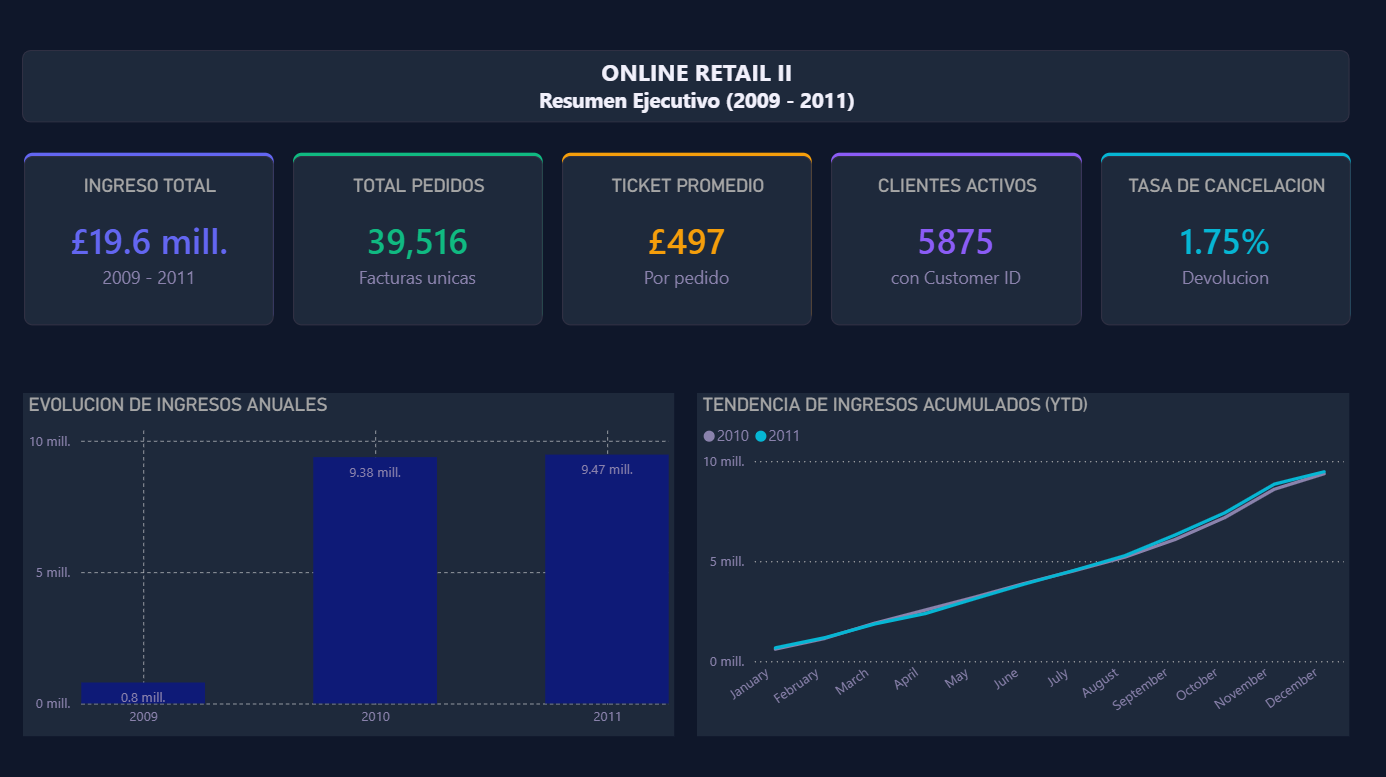

What the dashboard file says about the page in this screenshot:
{"tool":"powerbi","page":{"name":"Página 1","canvas":[1280,720],"ordinal":0},"visuals":[{"type":"cardVisual","title":"INGRESO TOTAL","fields":{"Data":["Sum(Consulta1.ingreso_total)"]},"box":[34.3,144.6,227.1,154.3],"z":0},{"type":"shape","box":[33,47.9,1207,66],"z":1000},{"type":"textbox","box":[42.9,48.1,1207.1,65.7],"z":2000},{"type":"cardVisual","title":"TOTAL PEDIDOS","fields":{"Data":["Sum(Consulta1.total_pedidos)"]},"box":[279.1,144.4,226.7,154.4],"z":3000},{"type":"cardVisual","title":"TICKET PROMEDIO","fields":{"Data":["Sum(Consulta1.ticket_promedio)"]},"box":[523.5,144.4,226.7,154.4],"z":4000},{"type":"cardVisual","title":"CLIENTES ACTIVOS","fields":{"Data":["Avg(Consulta1.clientes_activos)"]},"box":[767.9,144.5,227.8,154.4],"z":5000},{"type":"cardVisual","title":"TASA DE CANCELACION","fields":{"Data":["Avg(Consulta1.tasa_cancelacion_pct)"]},"box":[1013.3,144.5,226.7,154.4],"z":6000},{"type":"clusteredColumnChart","title":"EVOLUCION DE INGRESOS ANUALES","fields":{"Category":["Consulta2.anio"],"Y":["Sum(Consulta2.ingresos_anio)"]},"box":[33.3,360,592.2,312.2],"z":7000},{"type":"lineChart","title":"TENDENCIA DE INGRESOS ACUMULADOS (YTD)","fields":{"Category":["Consulta3.mes_nombre"],"Y":["Avg(Consulta3.ingresos_acumulado_anio)"],"Series":["Consulta3.anio"]},"box":[646.7,360,593.3,312.2],"z":9000}]}

Visuals, with their boxes in screenshot pixels (x1, y1, x2, y2), scaled from the page's 1280x720 canvas onto the 1386x777 screenshot:
"INGRESO TOTAL" cardVisual: bbox=[37, 156, 283, 323]
shape: bbox=[36, 52, 1343, 123]
textbox: bbox=[46, 52, 1354, 123]
"TOTAL PEDIDOS" cardVisual: bbox=[302, 156, 548, 322]
"TICKET PROMEDIO" cardVisual: bbox=[567, 156, 812, 322]
"CLIENTES ACTIVOS" cardVisual: bbox=[831, 156, 1078, 323]
"TASA DE CANCELACION" cardVisual: bbox=[1097, 156, 1343, 323]
"EVOLUCION DE INGRESOS ANUALES" clusteredColumnChart: bbox=[36, 388, 677, 725]
"TENDENCIA DE INGRESOS ACUMULADOS (YTD)" lineChart: bbox=[700, 388, 1343, 725]
